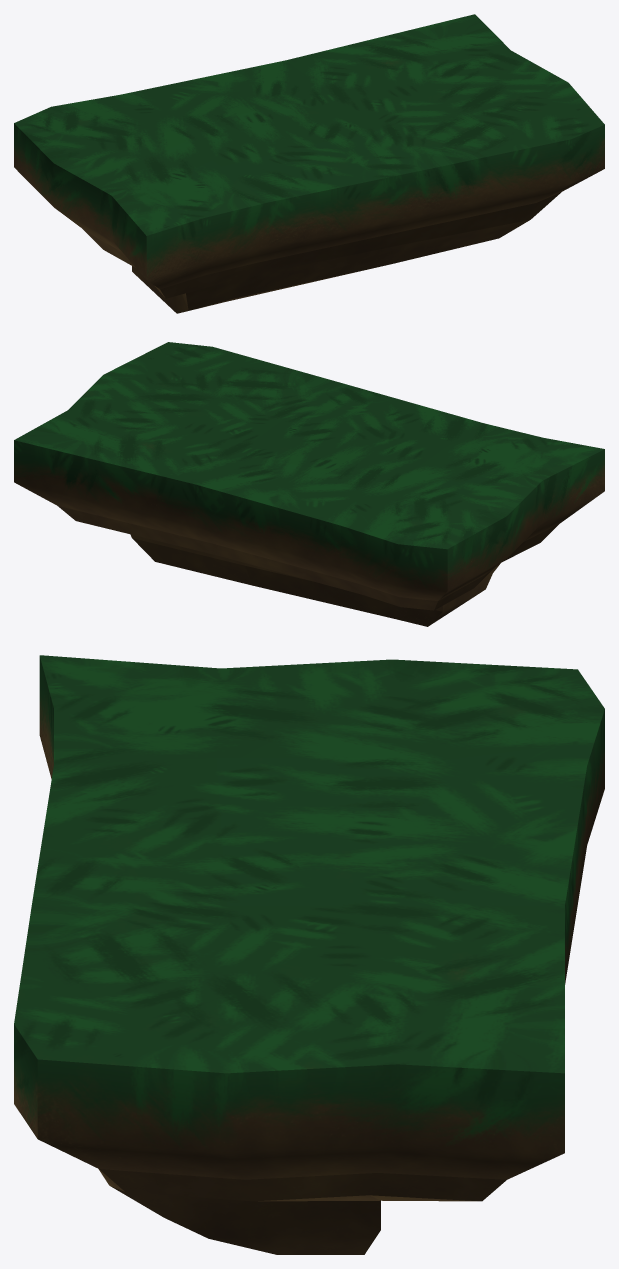
Rendered from Fantasy_LongMid2_Forest_Platform_Unchecked_ME.fbx.
3 renders of one model, top to bottom at view 1: azimuth 30°, elevation 25°; view 2: azimuth 150°, elevation 25°; view 3: azimuth 270°, elevation 25°, orthographic. The views are drawn at different scales.
Visible parts, largest first — view 1: ForestLongMid2; view 2: ForestLongMid2; view 3: ForestLongMid2.
Part boxes in pixels (<box>): ForestLongMid2: <box>14,14,604,313</box>; ForestLongMid2: <box>14,342,604,626</box>; ForestLongMid2: <box>14,655,604,1254</box>.
Size of the model in its own units: 241 by 144 by 72.24.
Materials: 1 (1 with a texture image).
